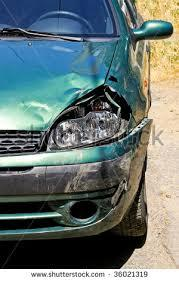Bonnet: (0, 37, 123, 132)
Bumper: (0, 122, 152, 238)
Fender: (105, 39, 155, 119)
Light: (44, 85, 136, 149)
